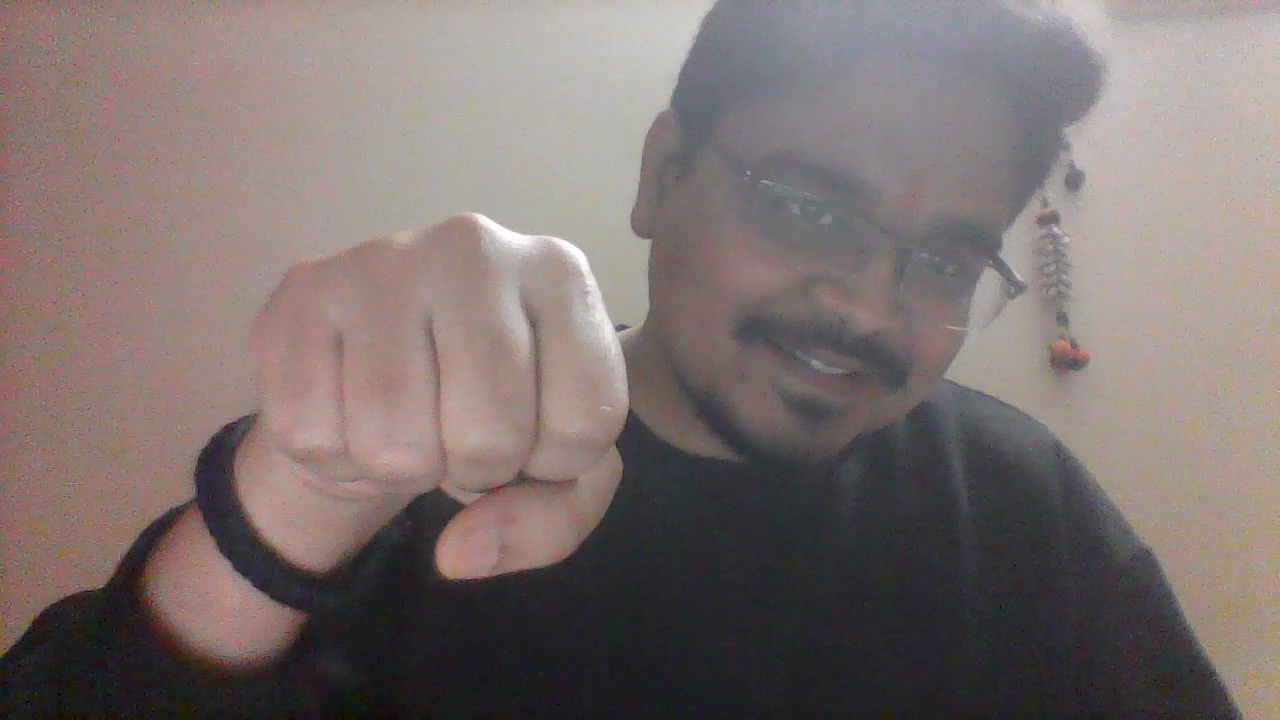Yes: (249, 206, 636, 586)
